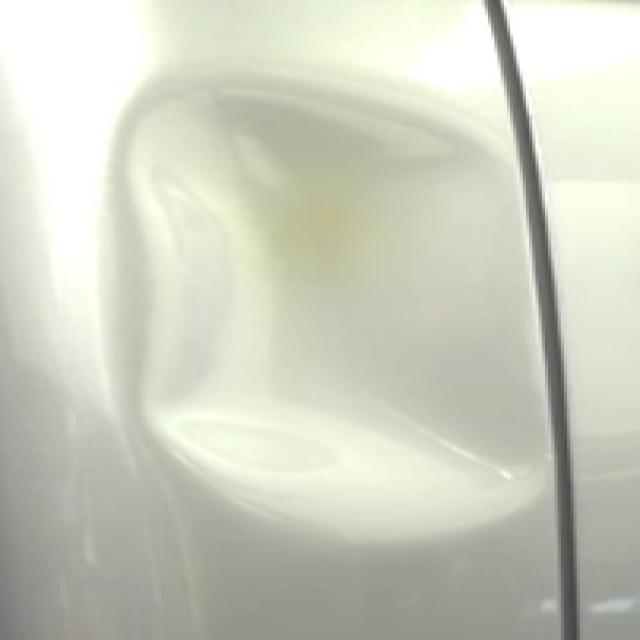dent: (131, 80, 556, 543)
